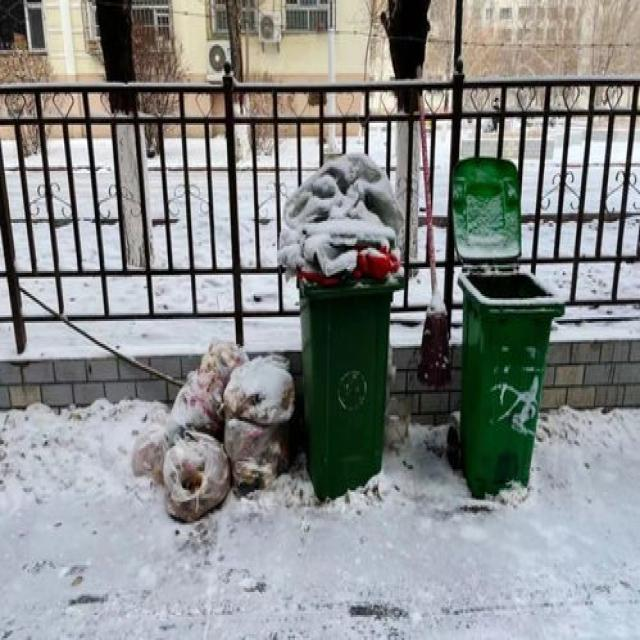garbage: (131, 338, 294, 521)
garbage_bin: (457, 265, 564, 500)
overflow: (273, 150, 405, 500)
